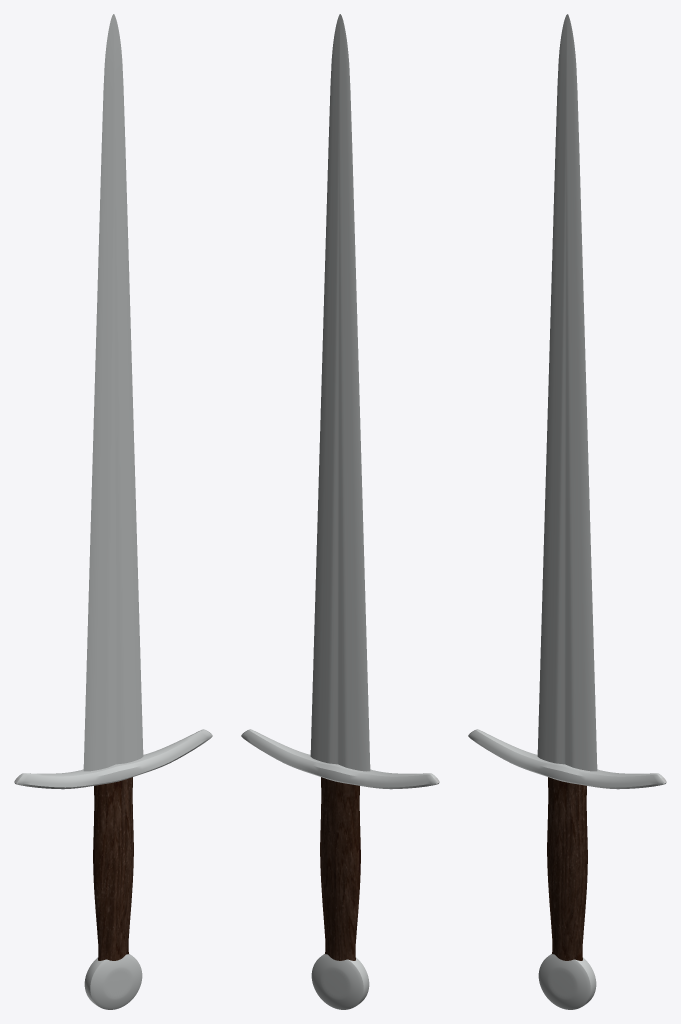
Rendered from broadsword.gltf.
3 views of the same model, side by side, from view 1: azimuth 30°, elevation 25°; view 2: azimuth 150°, elevation 25°; view 3: azimuth 330°, elevation 25° (orthographic).
Visible parts, largest first — view 1: Cylinder; view 2: Cylinder; view 3: Cylinder.
Boxes of the visible parts, x1,y1,x2,y2 form: Cylinder: (14, 14, 212, 1009); Cylinder: (241, 14, 439, 1009); Cylinder: (468, 14, 666, 1009).
Size of the model in its own units: 0.1635 by 0.7869 by 0.0207.
Materials: 1 (1 with a texture image).
